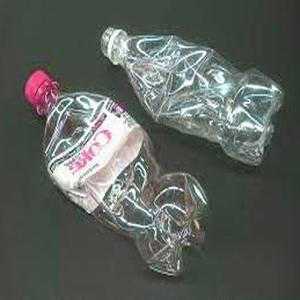Plastic: (21, 70, 207, 277), (101, 24, 281, 161)
